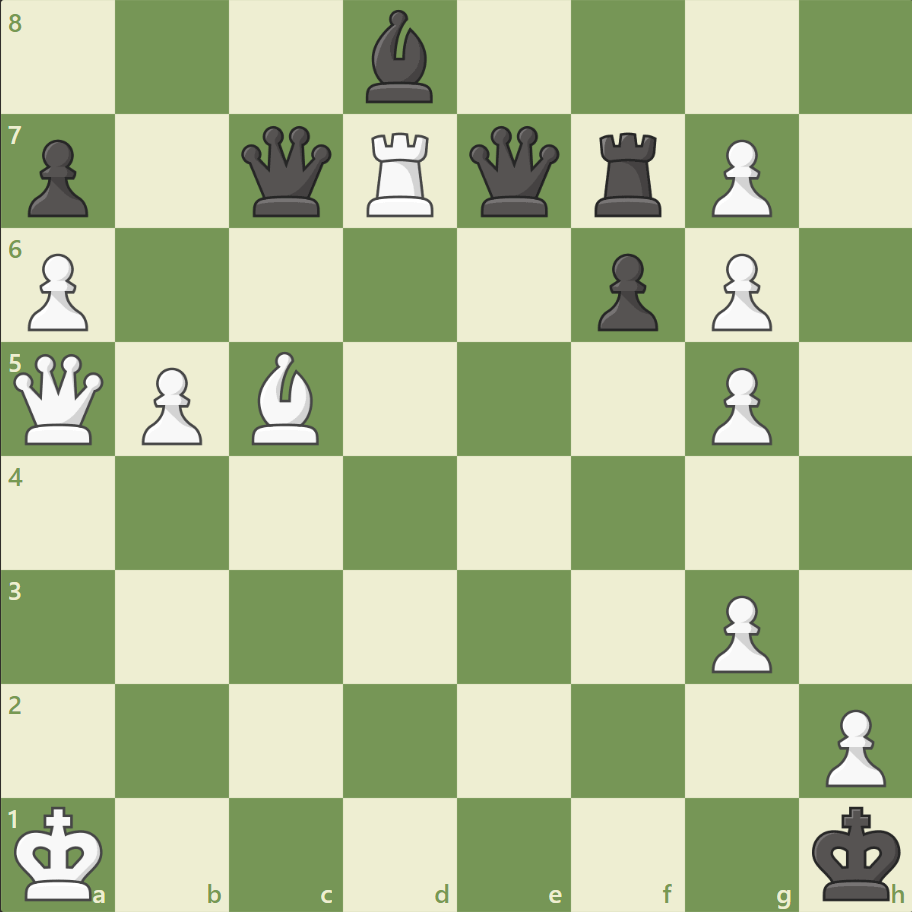B: (244, 347, 328, 449)
K: (11, 798, 111, 906)
P: (701, 132, 776, 223), (20, 246, 95, 337), (701, 246, 776, 337), (133, 359, 208, 450), (701, 359, 776, 450), (701, 586, 776, 677), (815, 700, 889, 791)
Q: (10, 349, 109, 449)
R: (360, 125, 442, 222)
b: (358, 6, 442, 109)
k: (806, 798, 906, 906)
p: (20, 132, 95, 223), (588, 246, 662, 337)
q: (237, 122, 336, 222), (464, 122, 563, 222)
r: (587, 125, 670, 222)
